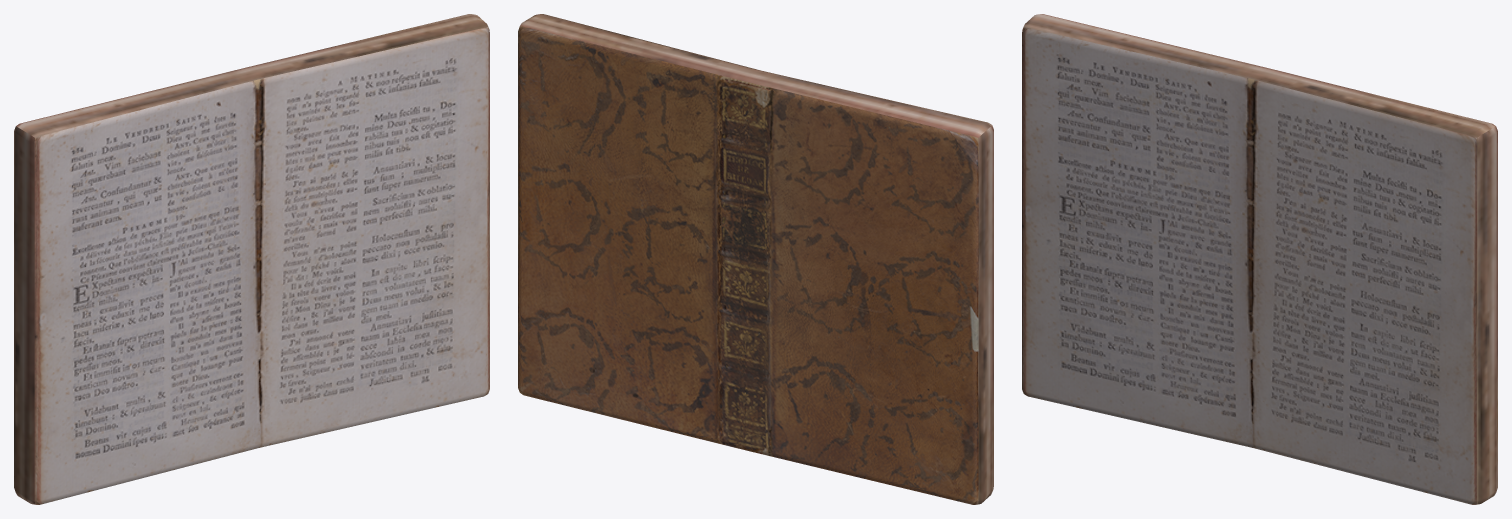
The model's file is SM_Book_page.fbx.
The picture shows the model from 3 angles, left to right: view 1: azimuth 30°, elevation 25°; view 2: azimuth 150°, elevation 25°; view 3: azimuth 330°, elevation 25°; orthographic projection.
Visible parts, largest first — view 1: SM_Book_page; view 2: SM_Book_page; view 3: SM_Book_page.
Part boxes in pixels (x1,y1,x2,y2): SM_Book_page: [14, 14, 489, 504]; SM_Book_page: [518, 14, 993, 504]; SM_Book_page: [1022, 14, 1497, 504].
Size of the model in its own units: 29.91 by 23 by 2.39.
1 material, 1 textured.
